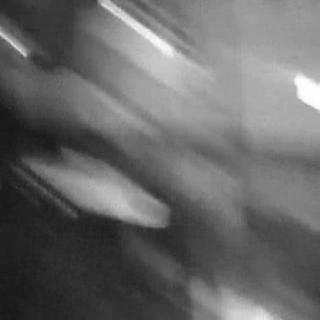other: (88, 9, 180, 57)
